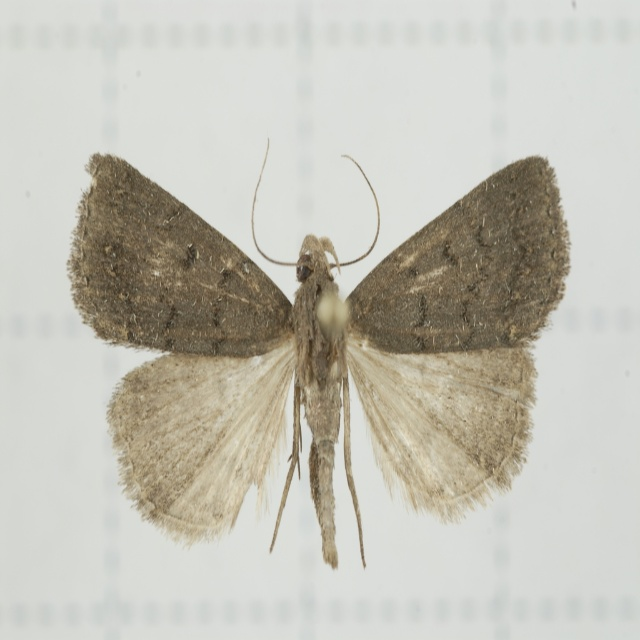Butterfly: (67, 138, 570, 569)
